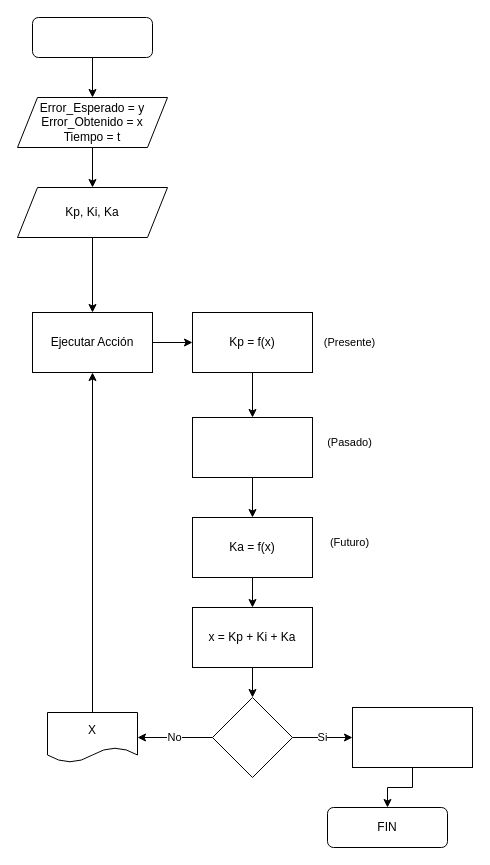
The diagram is 490 pixels wide and 865 high, and some of its shapes have lost their labels. The box of each missing label's shape, as (x1, y1, x2, y2) in pixels:
Ejecutar Actuador: (352, 706, 472, 768)
Inicio: (32, 16, 152, 58)
Ki = f(x): (192, 416, 312, 478)
x >= 4: (212, 696, 292, 778)
